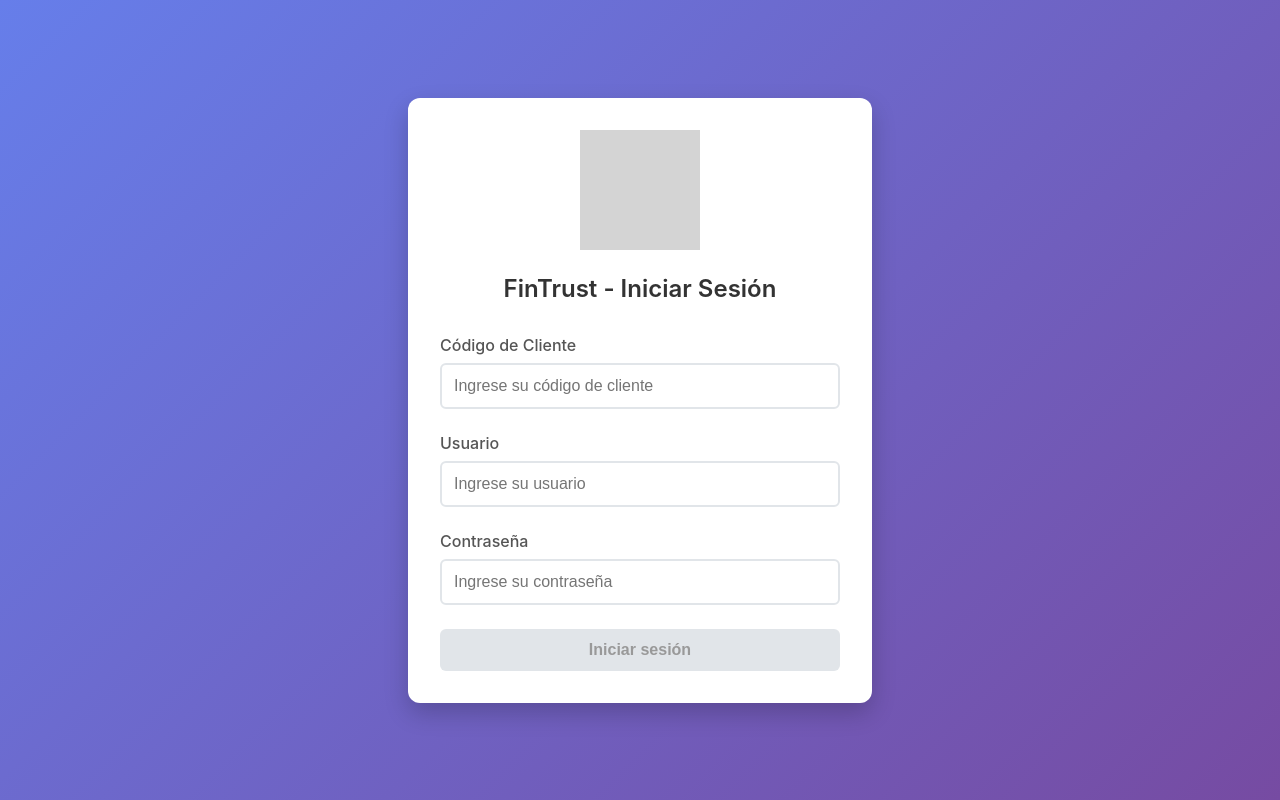
LoginForm › el botón se habilita solo cuando los tres campos están completos
Expected: the button "Iniciar sesión" is disabled, [440, 628, 840, 670]
Type "12345" into the field labelled "Código de Cliente". click: (640, 386)
box: [440, 362, 840, 408]
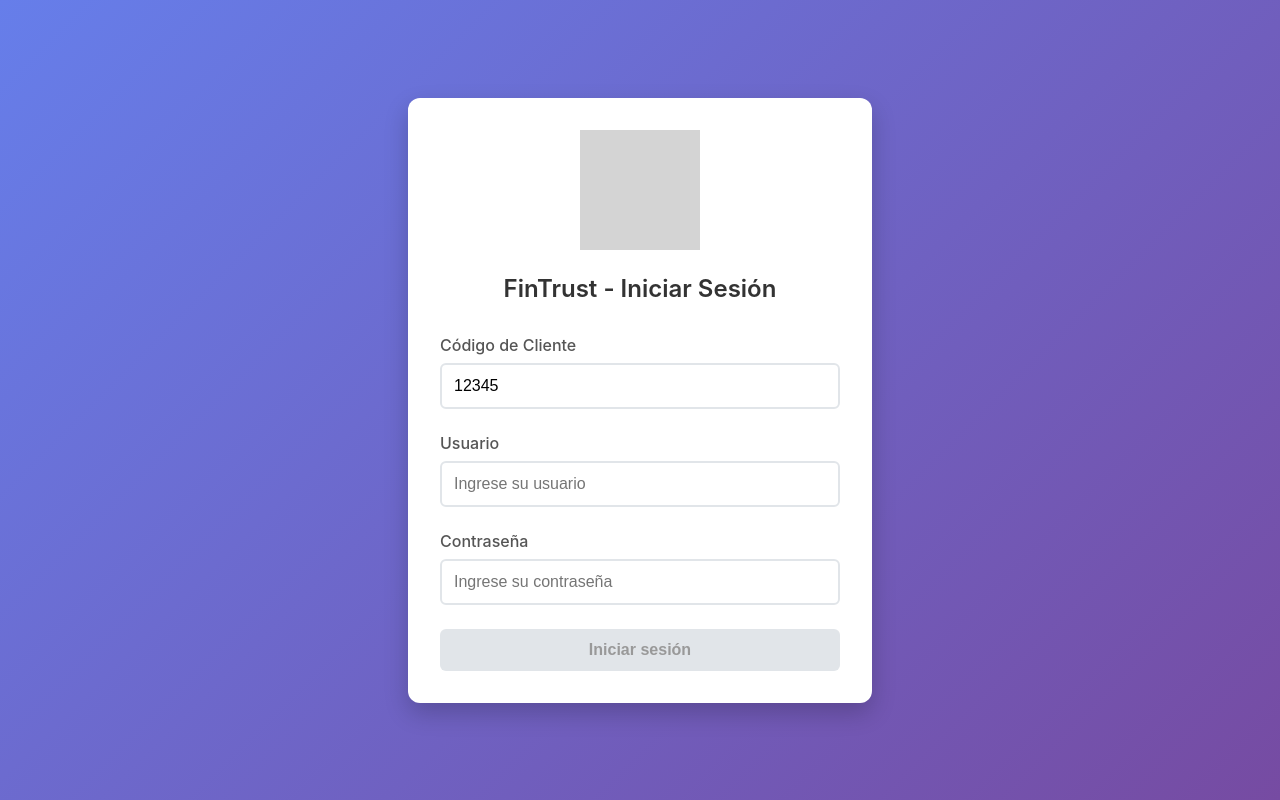
Expected: the button "Iniciar sesión" is disabled, [440, 628, 840, 670]
Type "usuario1" into the field labelled "Usuario". click: (640, 484)
box: [440, 460, 840, 506]
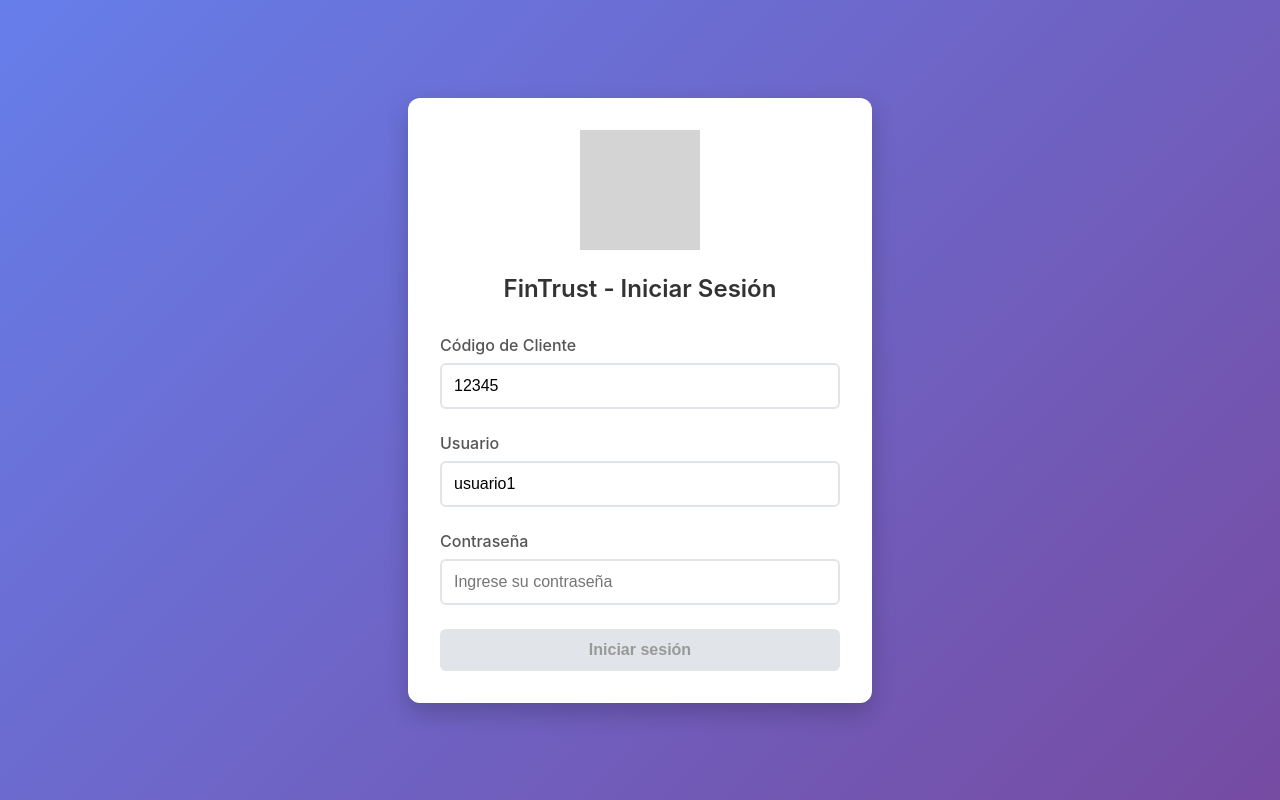
Expected: the button "Iniciar sesión" is disabled, [440, 628, 840, 670]
Type "password123" into the password field labelled "Contraseña". click: (640, 582)
box: [440, 558, 840, 604]
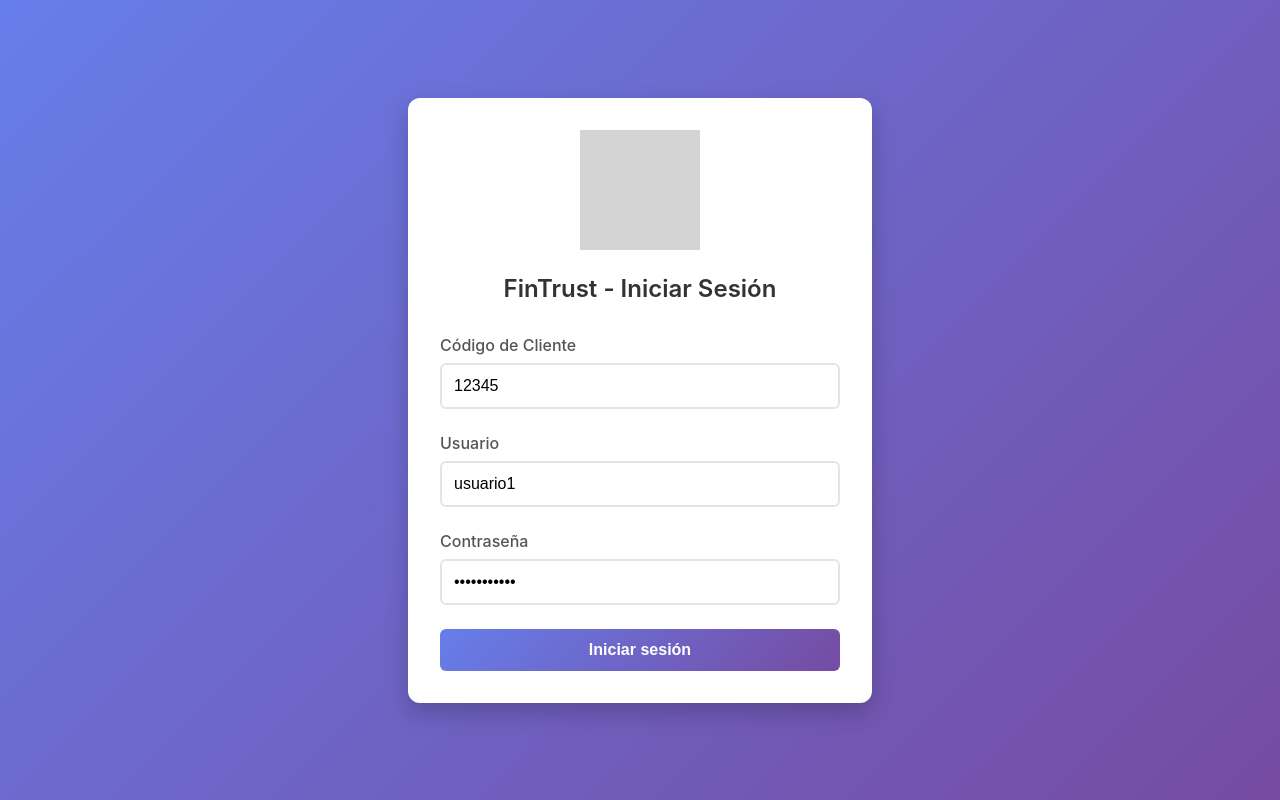
Expected: the button "Iniciar sesión" is enabled, [440, 628, 840, 670]
